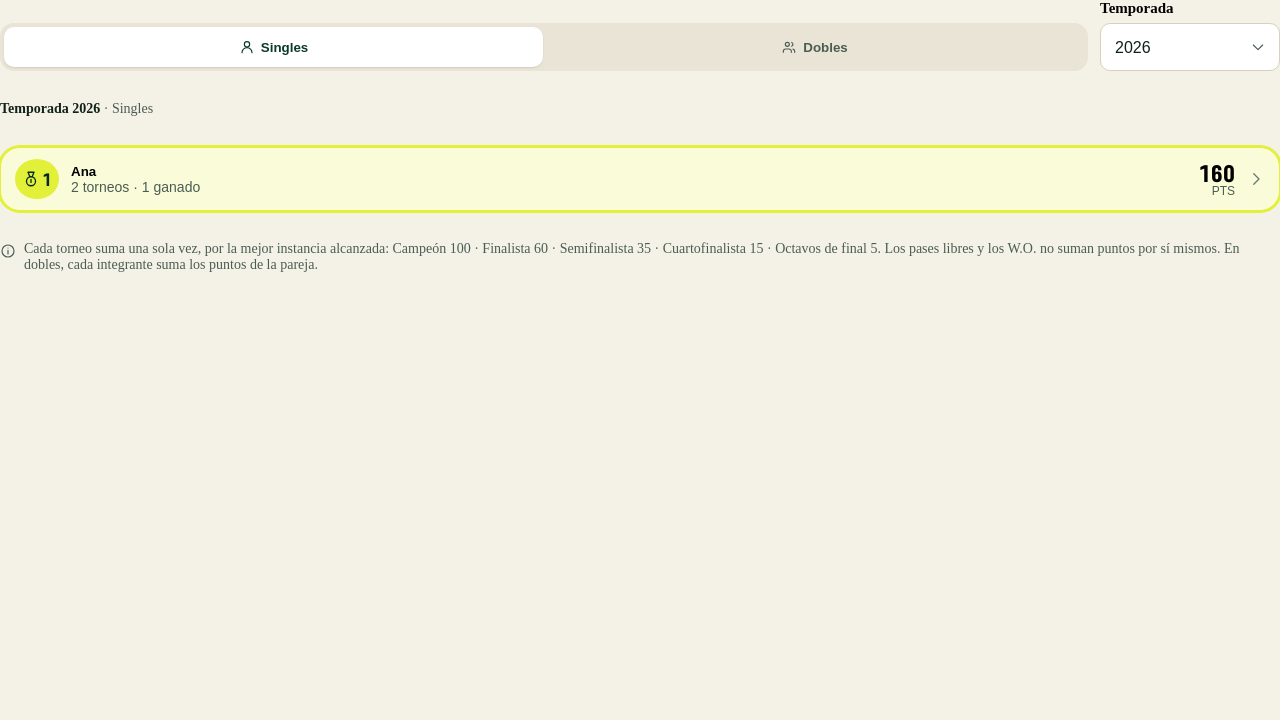
Test: RankingView › abre el detalle con los torneos que aportaron puntos
Click the button with aria-label "Ana, puesto 1, 160 puntos": (37, 179) [0, 147, 1279, 211]
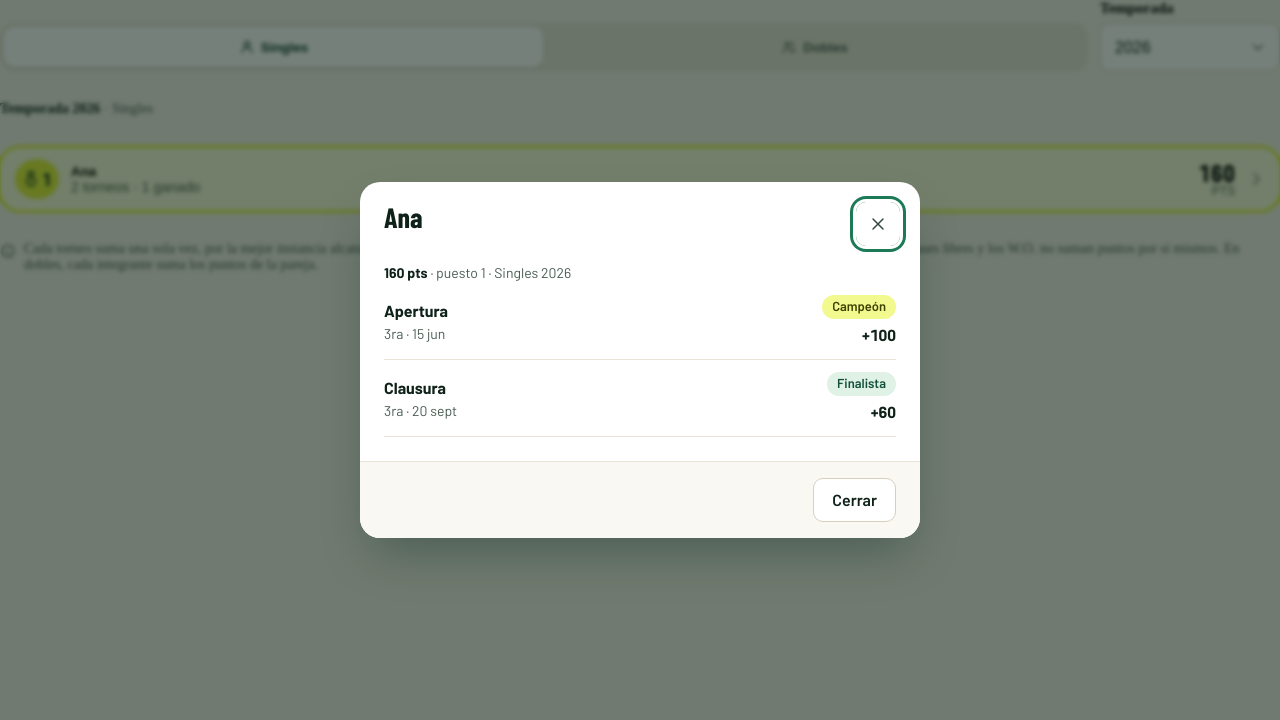
Result: the text "Apertura" is shown at [384, 298, 448, 322]
Result: the text "Campeón" is shown at [822, 295, 896, 319]
Result: the text "+60" is shown at [871, 400, 896, 424]
